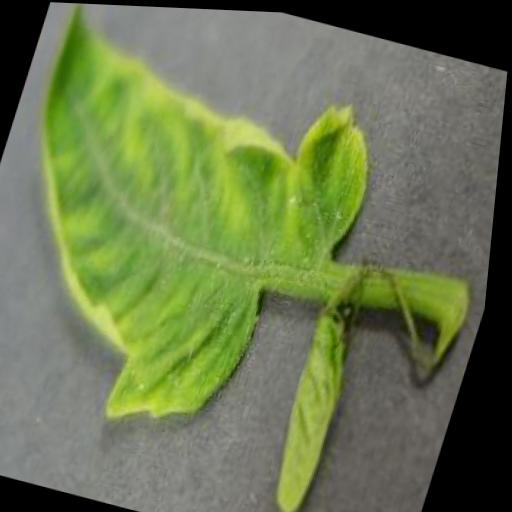Yellow Leaf Curl Virus: (0, 0, 401, 463), (263, 306, 371, 512)
